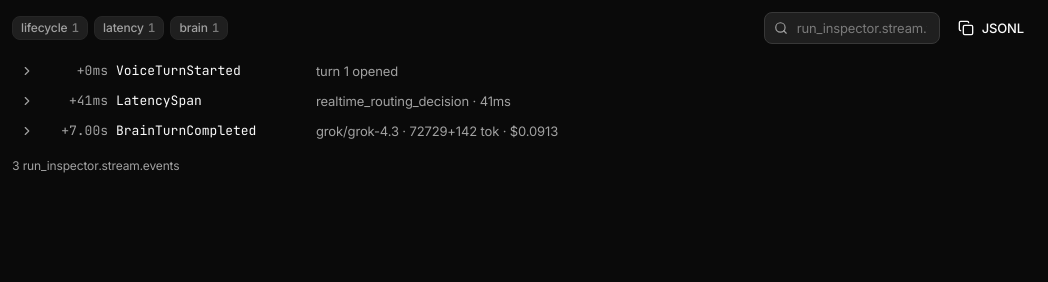
Test: EventStream › reveals the verbatim payload on click — the ground truth behind a summary
The width and height of the screenshot is (1048, 282).
Click the text "LatencySpan".
click(159, 100)  # box x1=116 y1=92 x2=202 y2=109
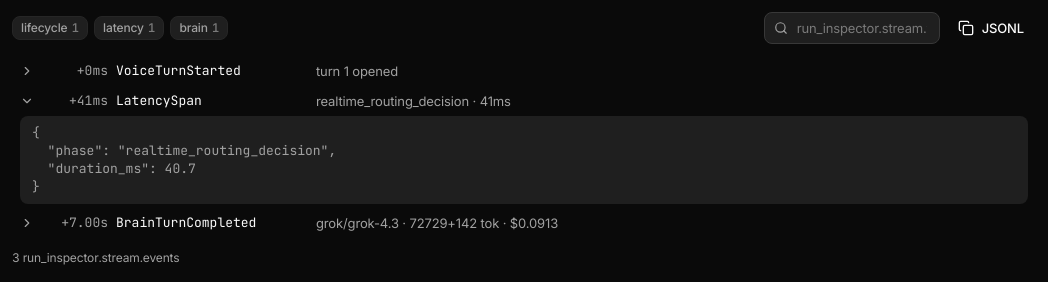
Expected: the text "realtime_routing_decision" is shown, x1=32 y1=124 x2=336 y2=195
Expected: the text "40.7" is shown, x1=32 y1=124 x2=336 y2=195
